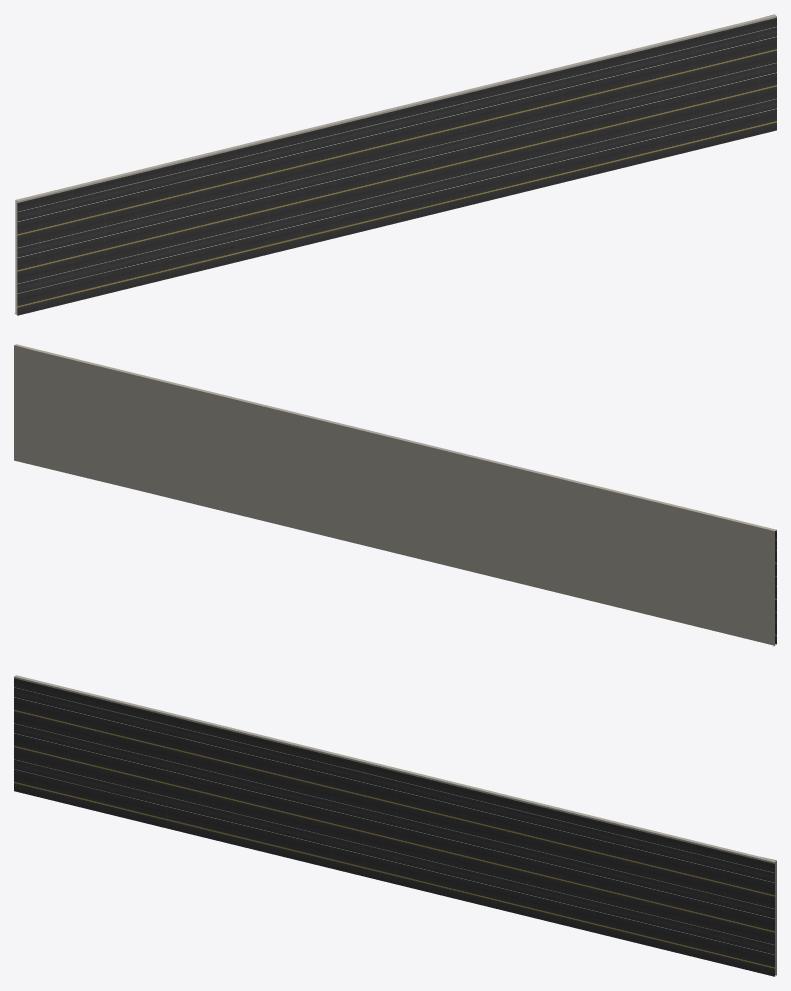
Rendered from deck_08.obj.
3 views of the same model, one above another, from view 1: azimuth 30°, elevation 25°; view 2: azimuth 150°, elevation 25°; view 3: azimuth 330°, elevation 25° (orthographic).
Parts seen in each view (by area): view 1: _12, _8; view 2: _8; view 3: _12, _8.
Boxes of the visible parts, left/top/right/bottom form: _12: left=17, top=18, right=776, bottom=315; _8: left=14, top=14, right=776, bottom=315; _8: left=14, top=344, right=776, bottom=646; _12: left=14, top=678, right=774, bottom=976; _8: left=14, top=675, right=776, bottom=976.
Size of the model in its own units: 38.1 by 5.52 by 0.2984.
